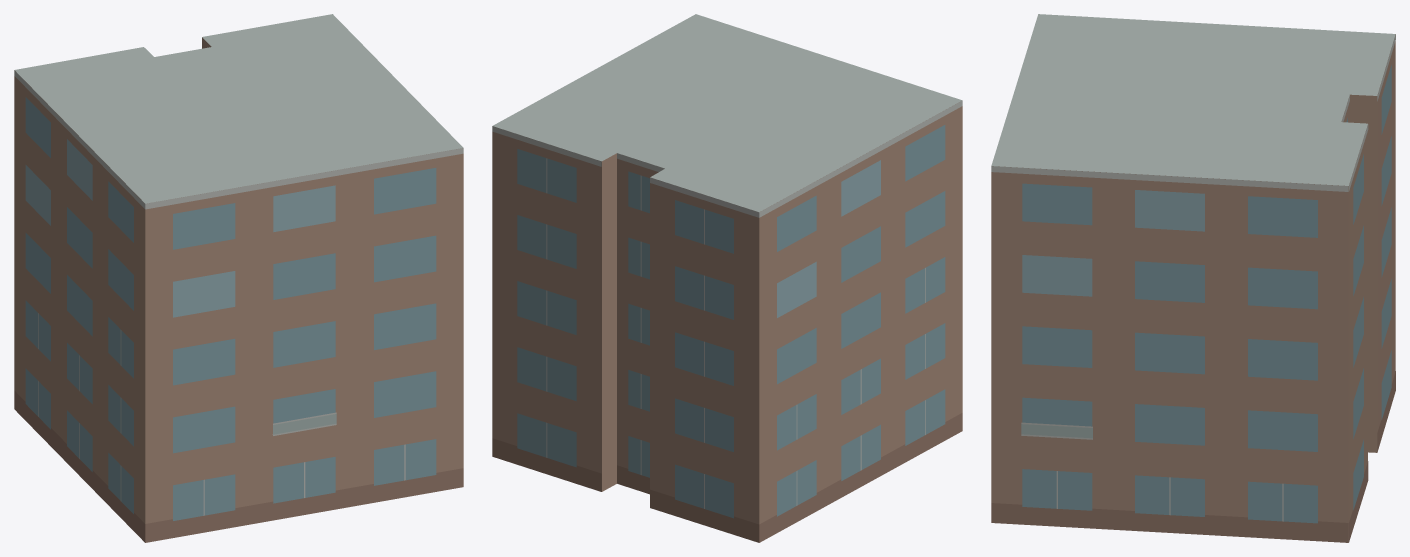
File: survey-upis-32755768.glb
The picture shows the model from 3 angles, left to right: view 1: azimuth 30°, elevation 25°; view 2: azimuth 150°, elevation 25°; view 3: azimuth 270°, elevation 25°; orthographic projection. The views are drawn at different scales.
Parts seen in each view (by area): view 1: survey-upis-32755768.tmp; view 2: survey-upis-32755768.tmp; view 3: survey-upis-32755768.tmp.
Part boxes in pixels (box(x1,y1,x2,y2)): survey-upis-32755768.tmp: box(14, 14, 463, 542); survey-upis-32755768.tmp: box(492, 14, 962, 542); survey-upis-32755768.tmp: box(991, 14, 1395, 542).
Bounding box in the file's own units: 14.89 × 14.4 × 14.8.
